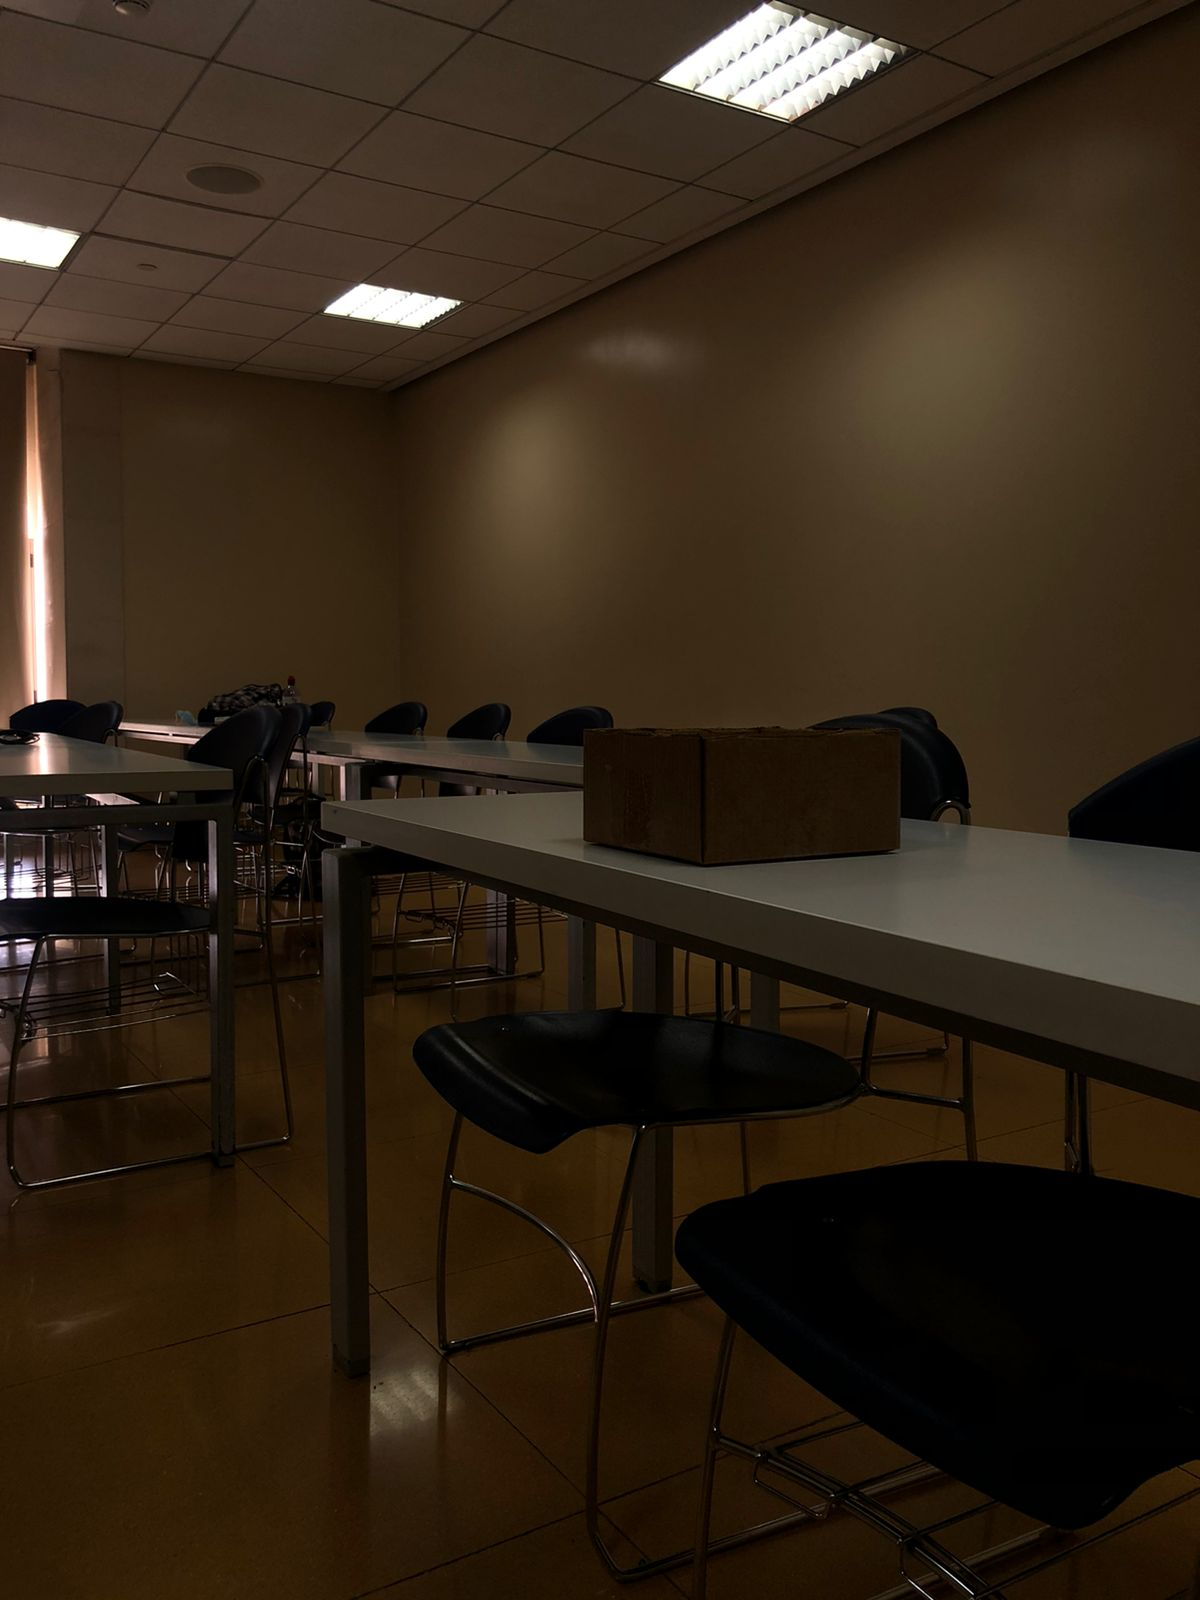CBox: (570, 719, 916, 871)
